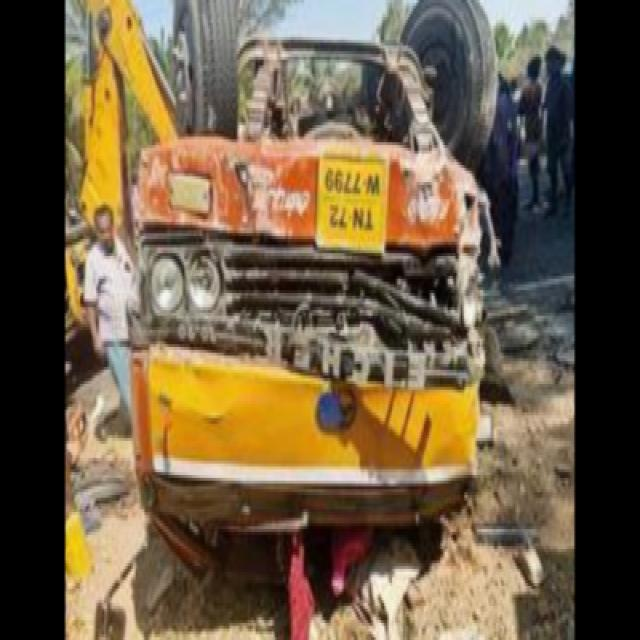accident: (131, 0, 495, 626)
